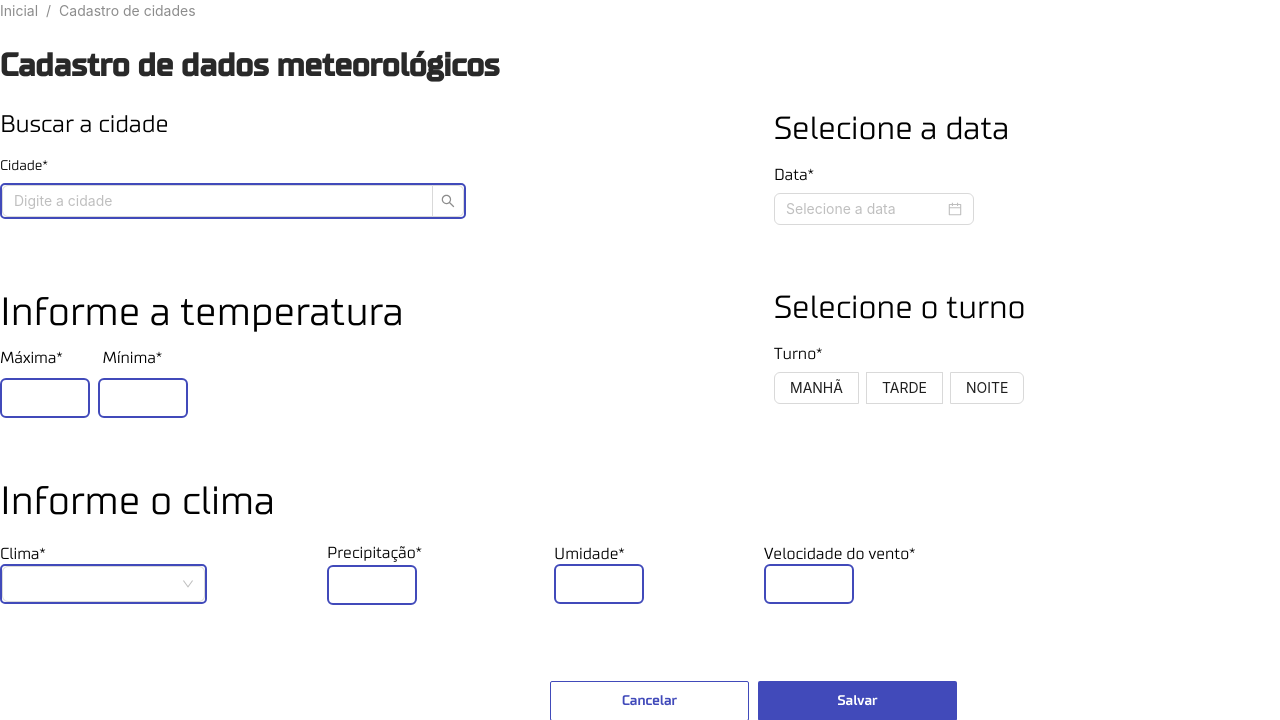
Test: CadastroCidadePage › mostra mensagem de erro quando campos obrigatórios não são preenchidos
The width and height of the screenshot is (1280, 720).
What coordinates should you click on to do the following:
click the button "Salvar"
I would click on:
 (858, 701)
Its box is [758, 681, 957, 719].
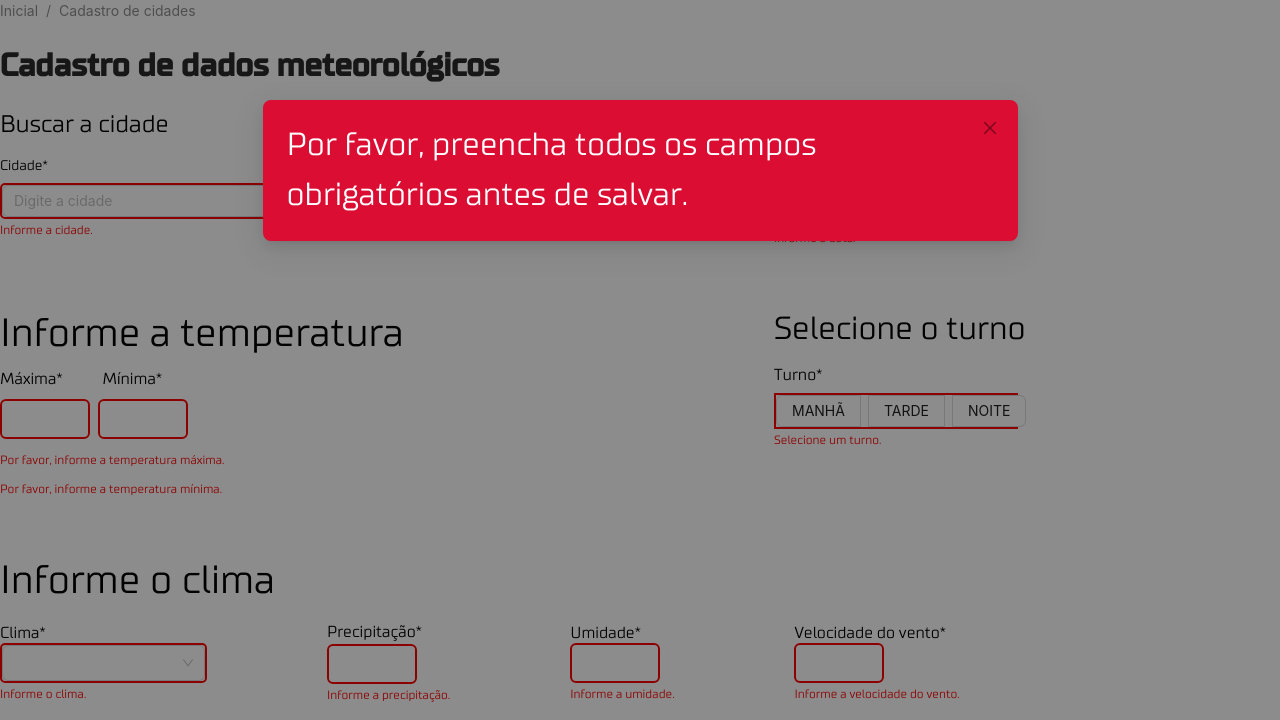
Now the text "Por favor, preencha todos os campos obrigatórios antes de salvar." is shown, box [286, 129, 816, 211]
